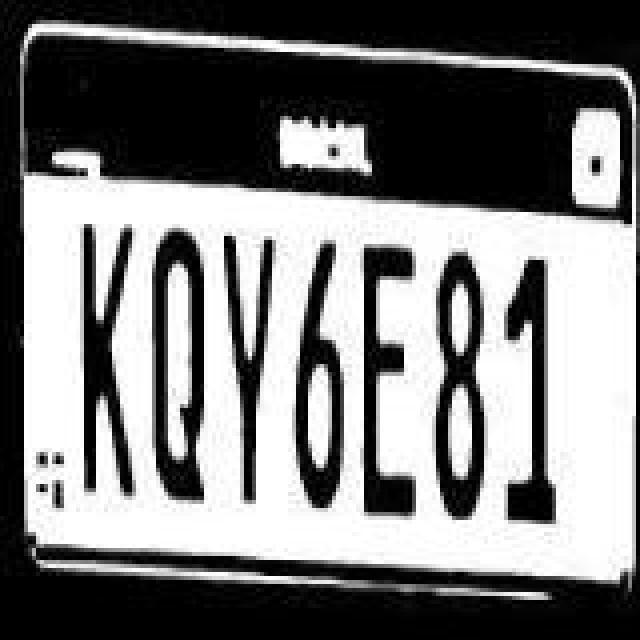1: (500, 252, 564, 528)
6: (292, 240, 348, 520)
8: (428, 242, 492, 522)
E: (362, 240, 422, 528)
K: (74, 222, 142, 502)
Q: (152, 228, 216, 504)
Y: (222, 230, 282, 510)
